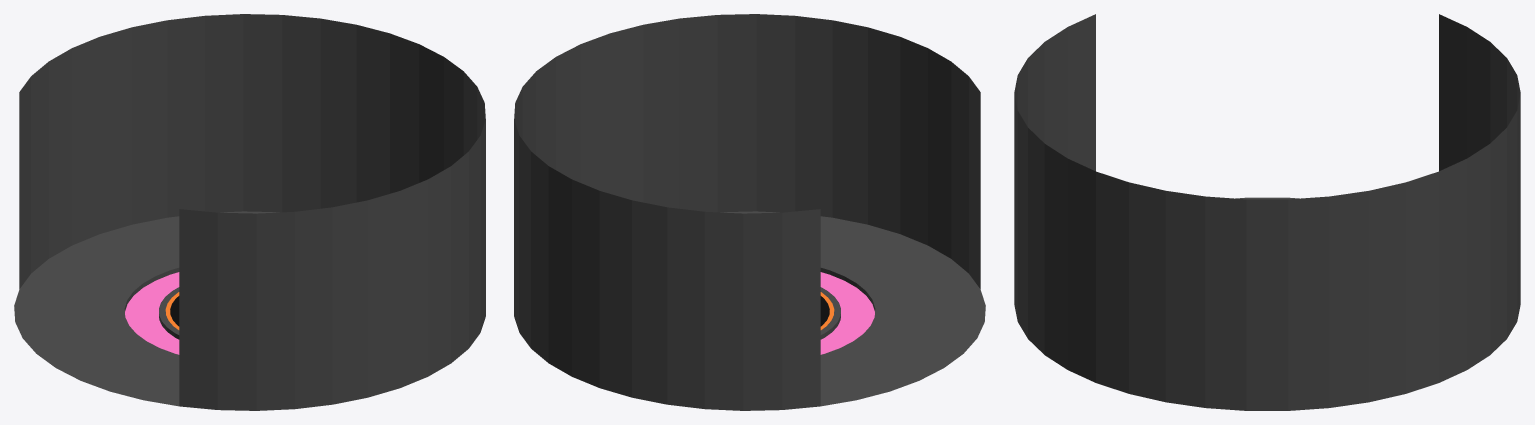
The model's file is Holo.glb.
The picture shows the model from 3 angles, left to right: view 1: azimuth 30°, elevation 25°; view 2: azimuth 150°, elevation 25°; view 3: azimuth 270°, elevation 25°; orthographic projection. The views are drawn at different scales.
Parts seen in each view (by area): view 1: Cylinder.001; view 2: Cylinder.001; view 3: Cylinder.001.
Part boxes in pixels (x1,y1,x2,y2): Cylinder.001: [14, 14, 485, 410]; Cylinder.001: [514, 14, 985, 410]; Cylinder.001: [1014, 14, 1520, 410].
Bounding box in the file's own units: 93.16 × 44.06 × 93.48.
